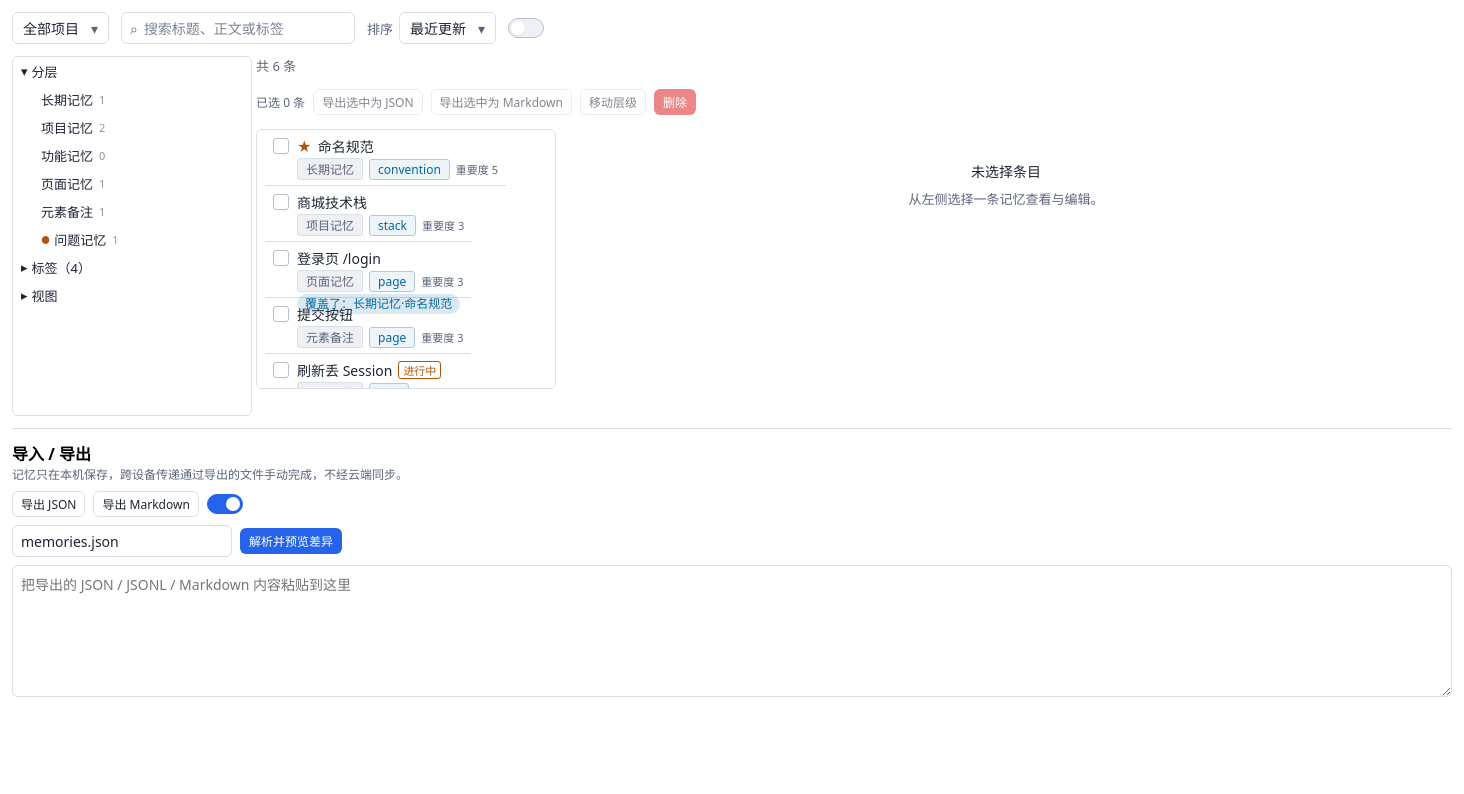
记忆中心 › 结构化字段表单编辑可保存
Click the text "登录页 /login" at (339, 258), box [297,249,381,268]
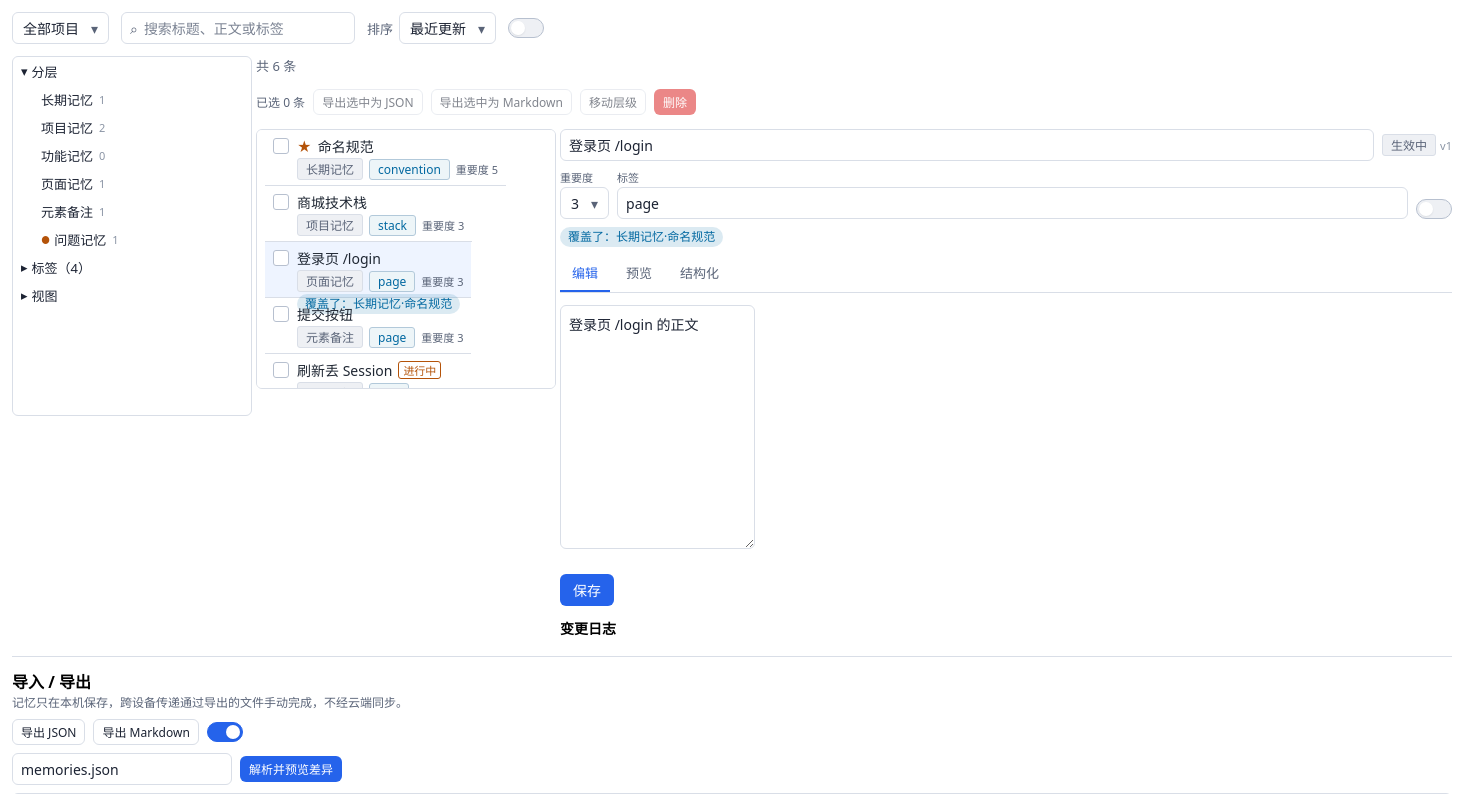
Click the tab "结构化" at (700, 274), box [668,255,731,292]
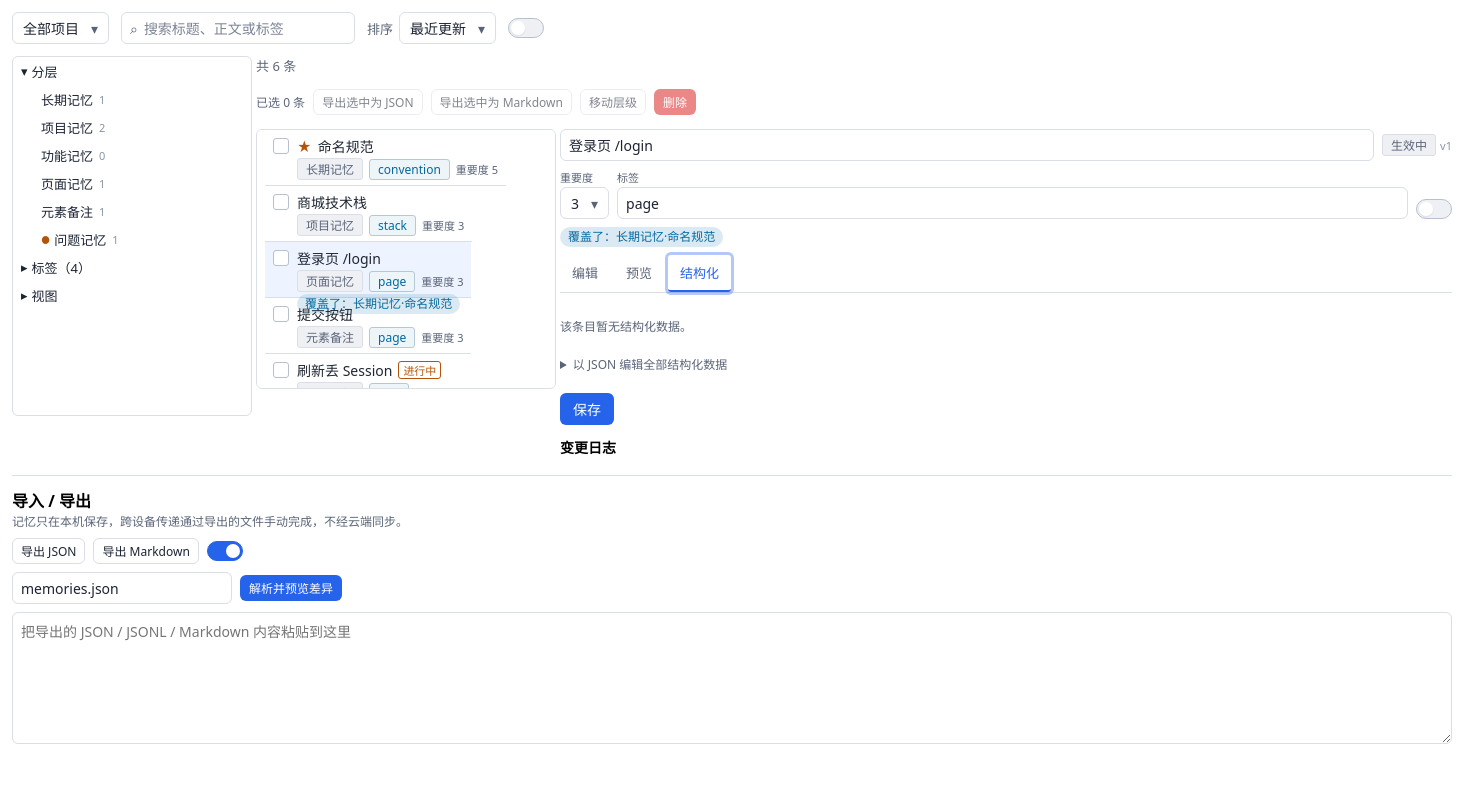
Click the button "保存" at (587, 409), box [560,393,614,425]
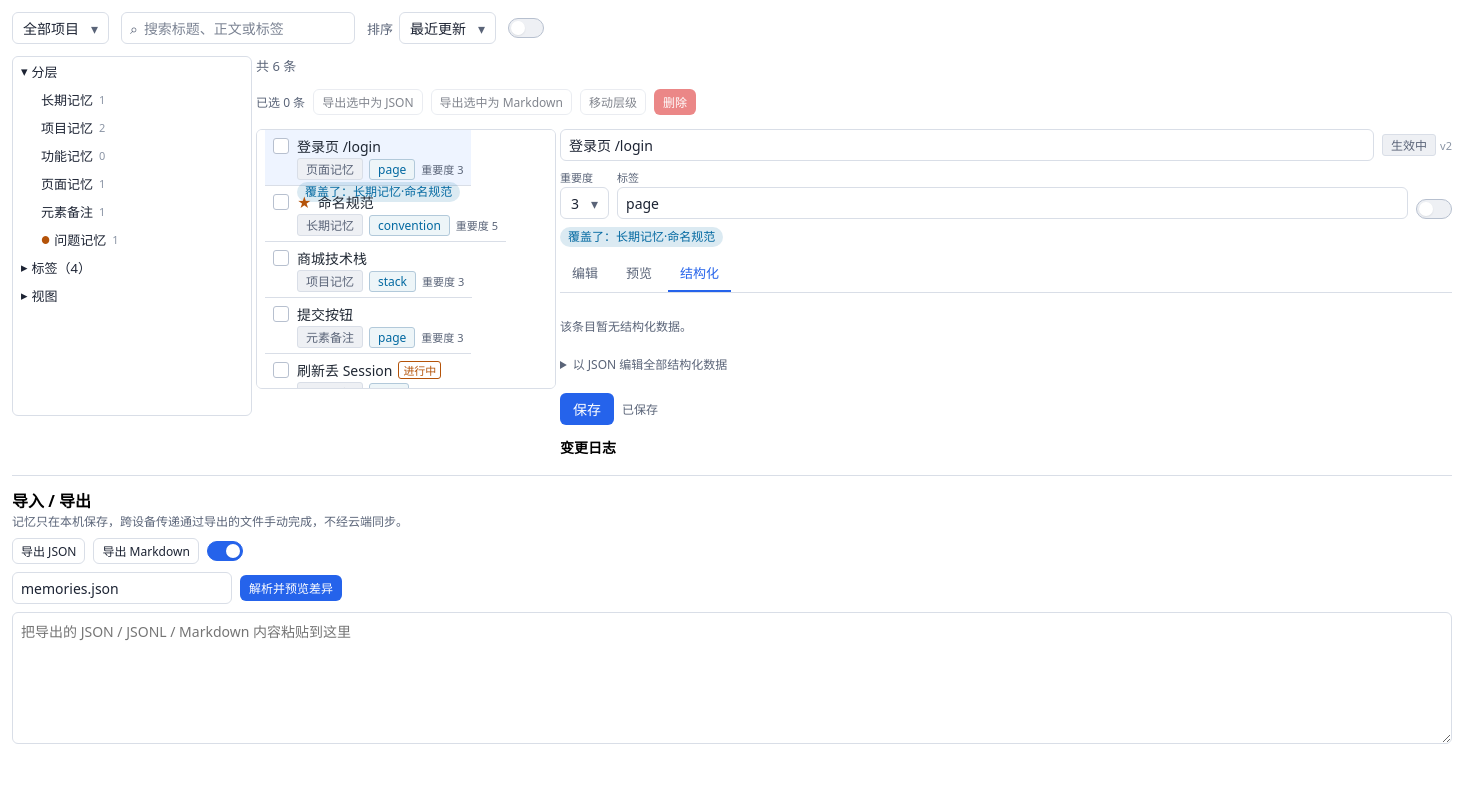
Expected: the message reads "已保存", [622,401,658,418]
